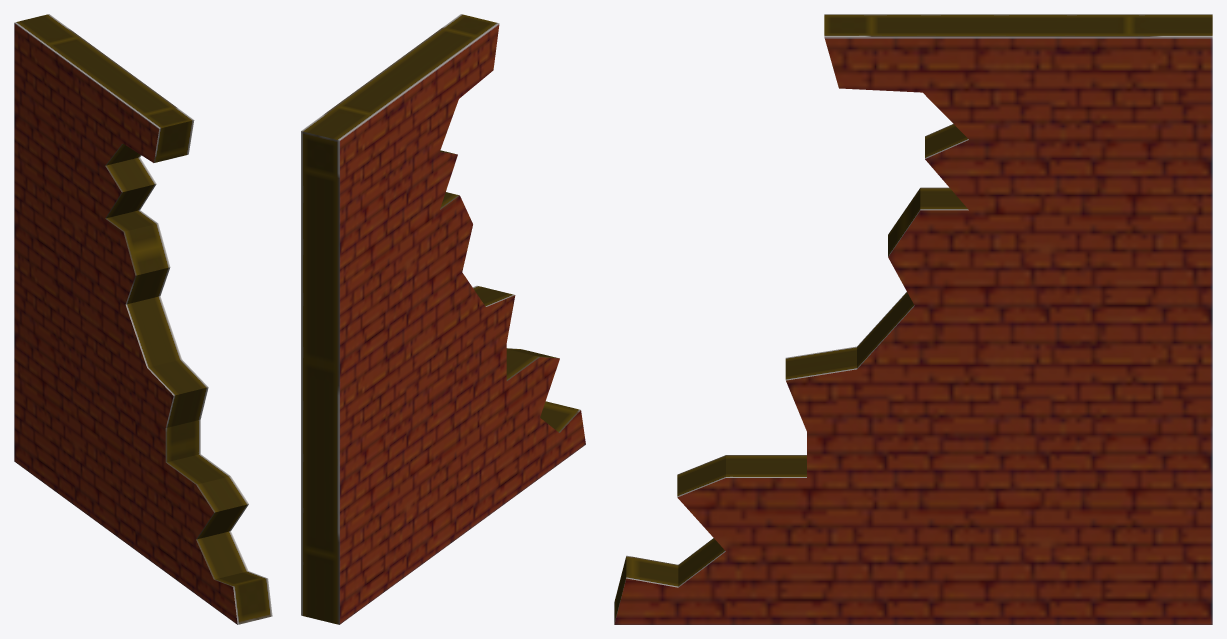
Rendered from Wall_Broken_L_13.fbx.
3 views of the same model, side by side, from view 1: azimuth 30°, elevation 25°; view 2: azimuth 150°, elevation 25°; view 3: azimuth 270°, elevation 25° (orthographic). The views are drawn at different scales.
Parts seen in each view (by area): view 1: Wall_Broken_L_13; view 2: Wall_Broken_L_13; view 3: Wall_Broken_L_13.
Part boxes in pixels (box(x1,y1,x2,y2)): Wall_Broken_L_13: box(14, 14, 272, 624); Wall_Broken_L_13: box(301, 14, 585, 624); Wall_Broken_L_13: box(614, 14, 1212, 624).
Bounding box in the file's own units: 50 × 600 × 553.
